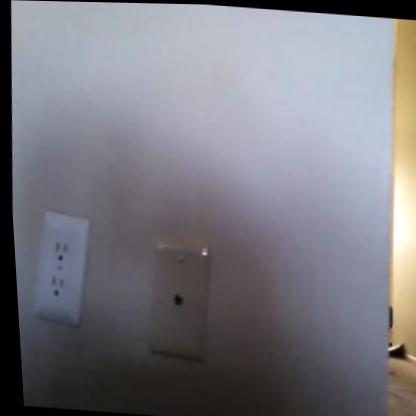OUTLET: (27, 211, 96, 323)
